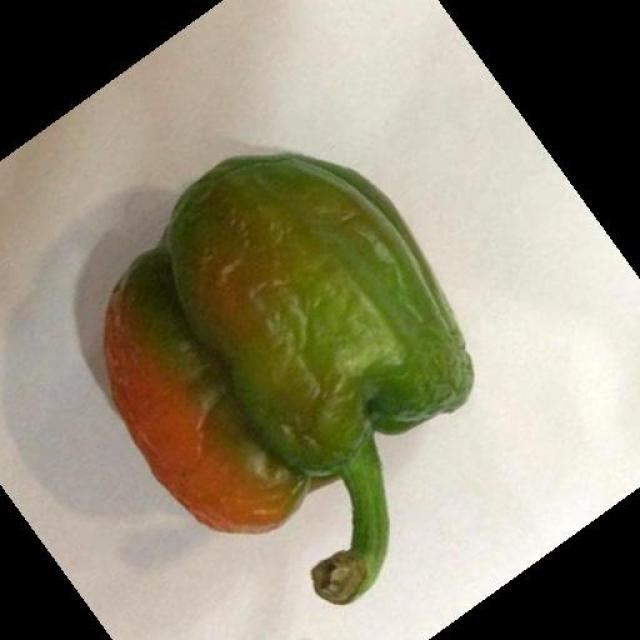Stale_Capsicum: (102, 135, 518, 587)
